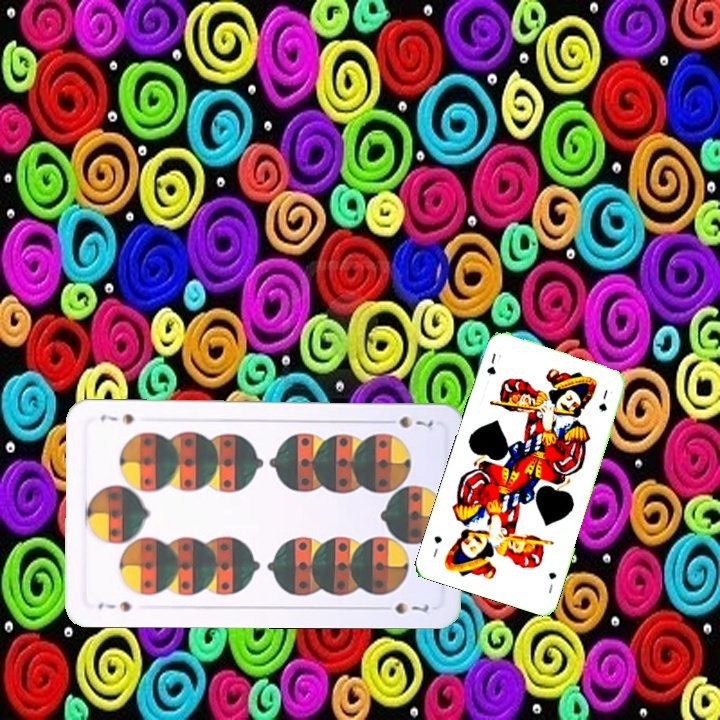GU: (483, 349, 498, 379), (544, 568, 559, 596)
S7: (380, 412, 436, 431), (94, 597, 135, 614)
